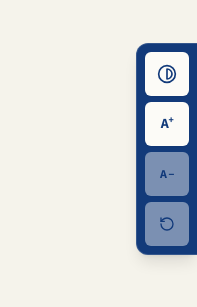
Test: AccessibilityRail › aumenta y reduce tamaño de letra (A+ / A-), alterna contraste y restablece
Later steps or results of the test are not shown.
Expected: the button named "Reducir letra" is disabled, left=145, top=152, right=189, bottom=196
Expected: the button named "Restablecer vista" is disabled, left=145, top=202, right=189, bottom=246
Click the button named "Aumentar letra".
click(167, 124)  # box left=145, top=102, right=189, bottom=146
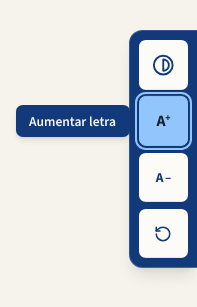
Expected: the button named "Reducir letra" is enabled, left=138, top=152, right=188, bottom=202
Click the button named "Aumentar letra".
click(163, 121)  # box left=138, top=96, right=188, bottom=146
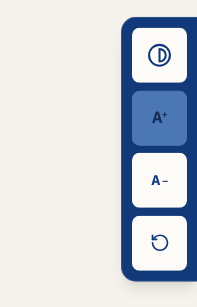
Expected: the button named "Aumentar letra" is disabled, left=132, top=90, right=187, bottom=145
